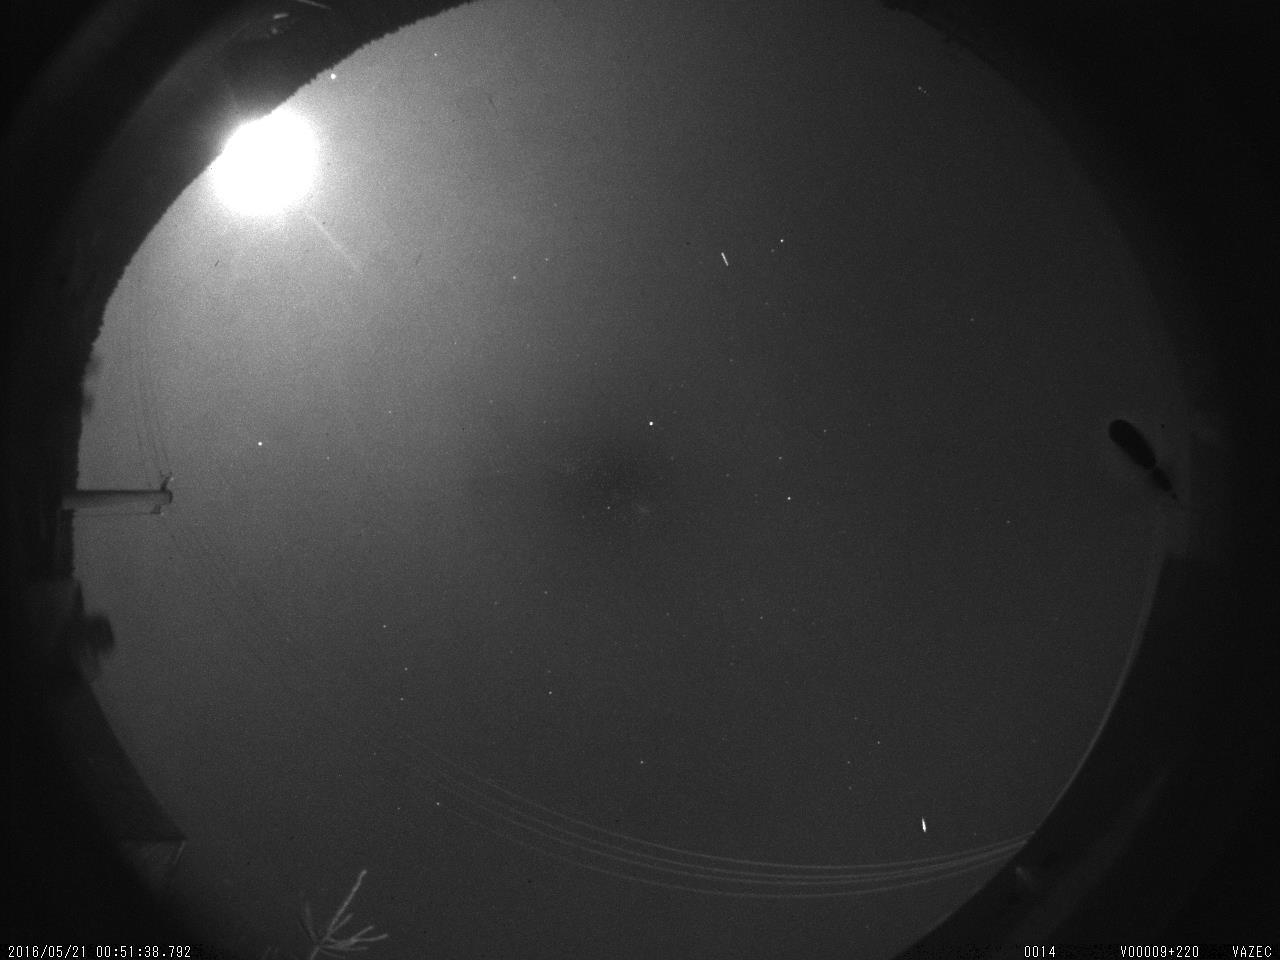Meteor: (917, 810, 934, 843)
